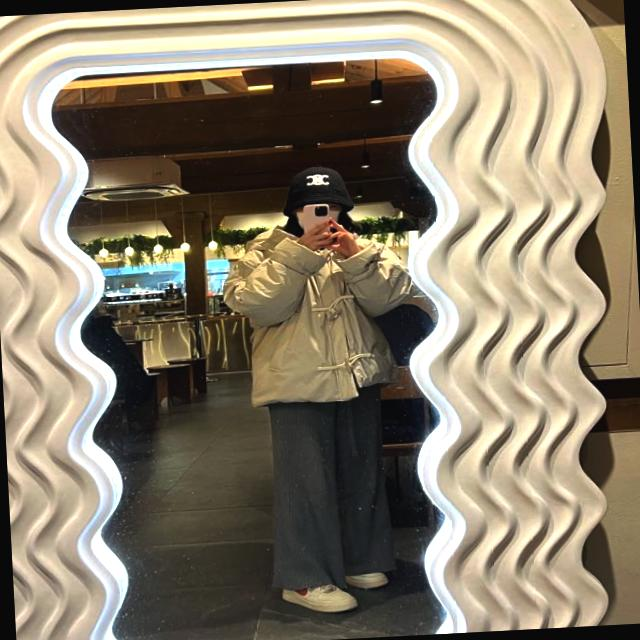padding: (220, 218, 420, 408)
trainingpants: (272, 386, 399, 592)
